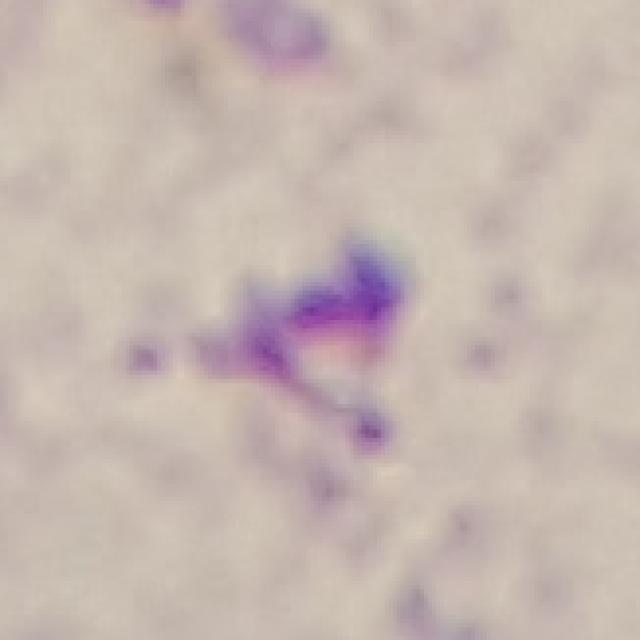non-sperm: (122, 247, 404, 459)
